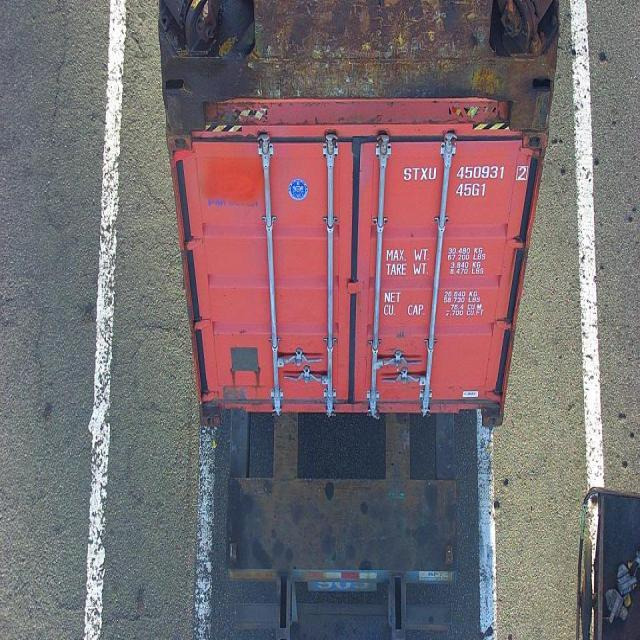ISO: (456, 181, 486, 199)
container_number: (405, 160, 529, 184)
